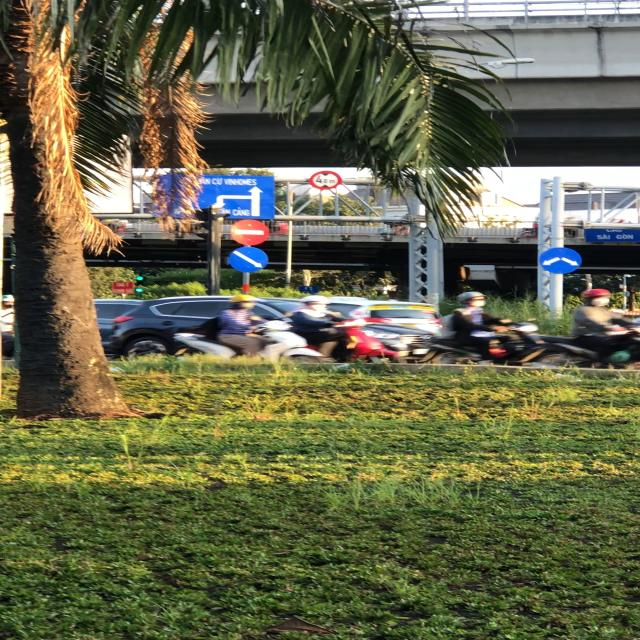Bien bao cam di nguoc chieu: (228, 215, 274, 247)
Bien bao han che chieu cao: (308, 170, 344, 192)
Bien bao huong phai di vong chuong ngai vat: (534, 246, 584, 275), (228, 246, 275, 274)
